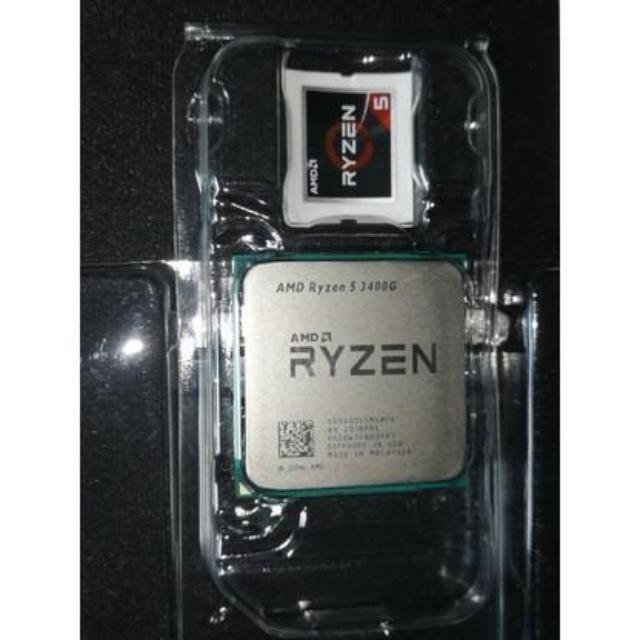CPU: (234, 256, 472, 492)
